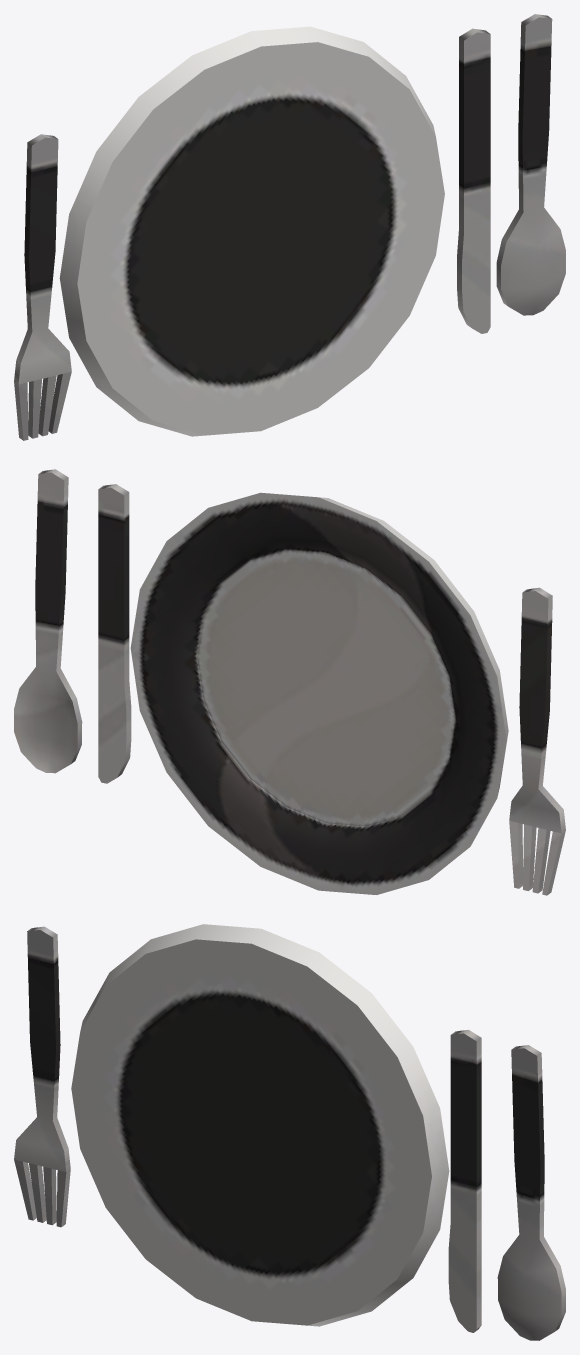
Rendered from DinnerPlate.fbx.
3 views of the same model, one above another, from view 1: azimuth 30°, elevation 25°; view 2: azimuth 150°, elevation 25°; view 3: azimuth 330°, elevation 25° (orthographic).
Parts seen in each view (by area): view 1: DinnerPlate; view 2: DinnerPlate; view 3: DinnerPlate.
Boxes of the visible parts, bbox=[...] form: DinnerPlate: bbox=[14, 14, 565, 440]; DinnerPlate: bbox=[14, 469, 565, 895]; DinnerPlate: bbox=[14, 924, 565, 1340].
Bounding box in the file's own units: 80.8 × 55.99 × 2.56.
